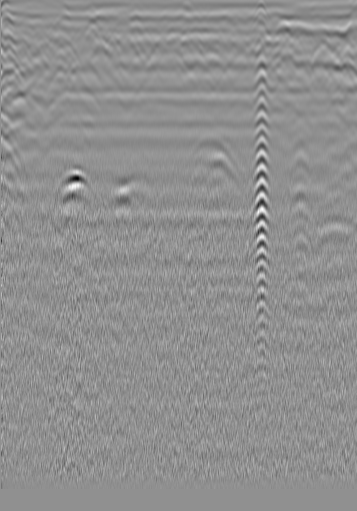가스: (110, 172, 146, 208)
상수: (311, 34, 331, 54)
우수: (185, 34, 205, 54)
